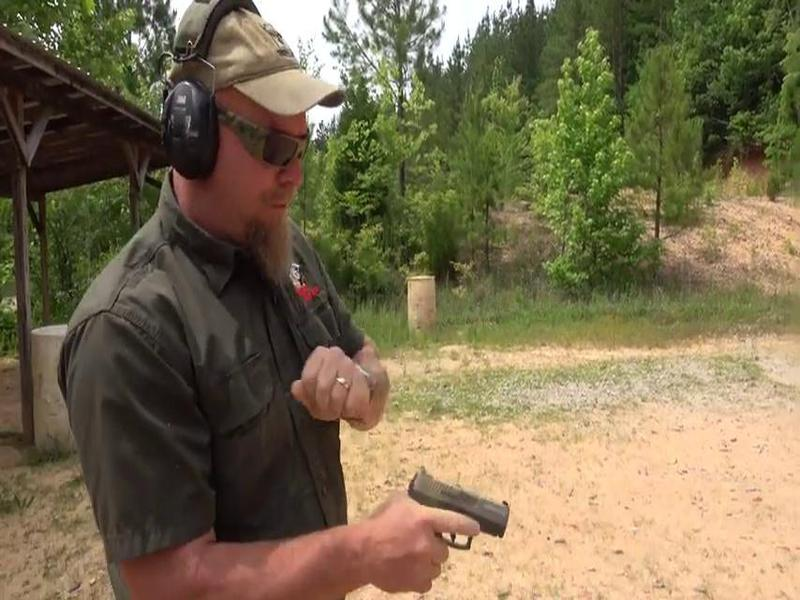Pistola: (385, 441, 537, 571)
